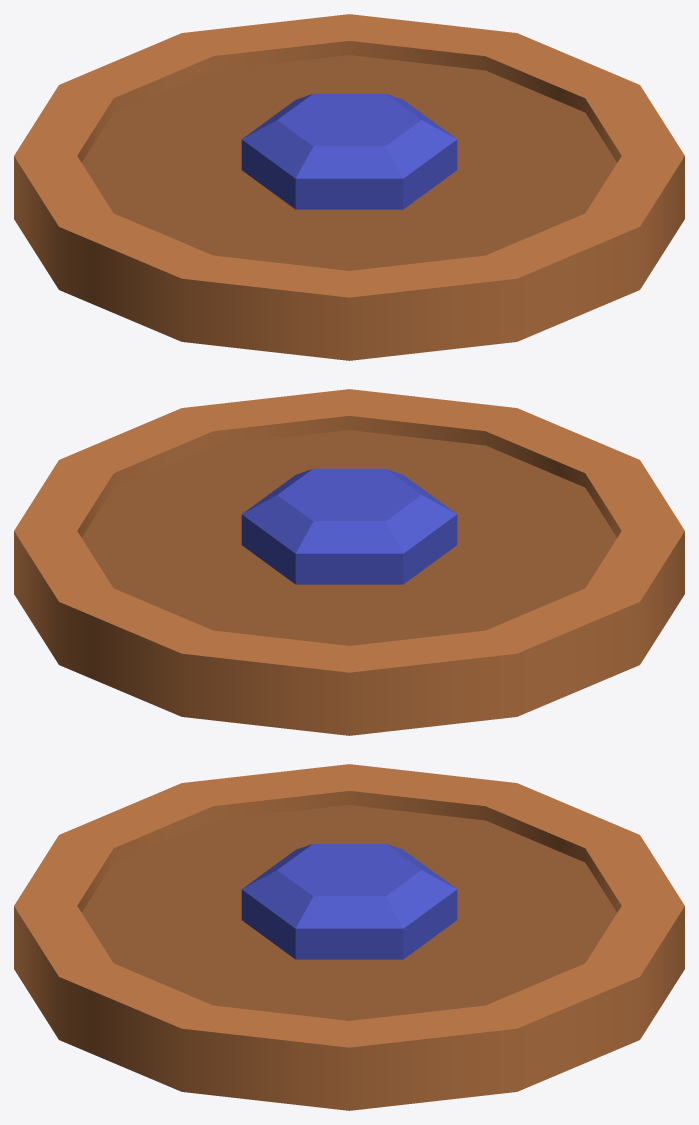
File: Artifact_01_Circular.fbx
The picture shows the model from 3 angles, top to bottom: view 1: azimuth 30°, elevation 25°; view 2: azimuth 150°, elevation 25°; view 3: azimuth 270°, elevation 25°; orthographic projection.
Parts seen in each view (by area): view 1: Artifact_01_Circular; view 2: Artifact_01_Circular; view 3: Artifact_01_Circular.
Boxes of the visible parts, bbox=[...] form: Artifact_01_Circular: bbox=[14, 14, 684, 360]; Artifact_01_Circular: bbox=[14, 389, 684, 735]; Artifact_01_Circular: bbox=[14, 764, 684, 1110].
Bounding box in the file's own units: 0.1045 × 0.017 × 0.1045.
